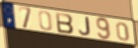0: (38, 10, 53, 32), (115, 22, 131, 42)
7: (19, 6, 33, 31)
9: (96, 16, 112, 42)
B: (55, 11, 75, 35)
J: (78, 17, 92, 37)
